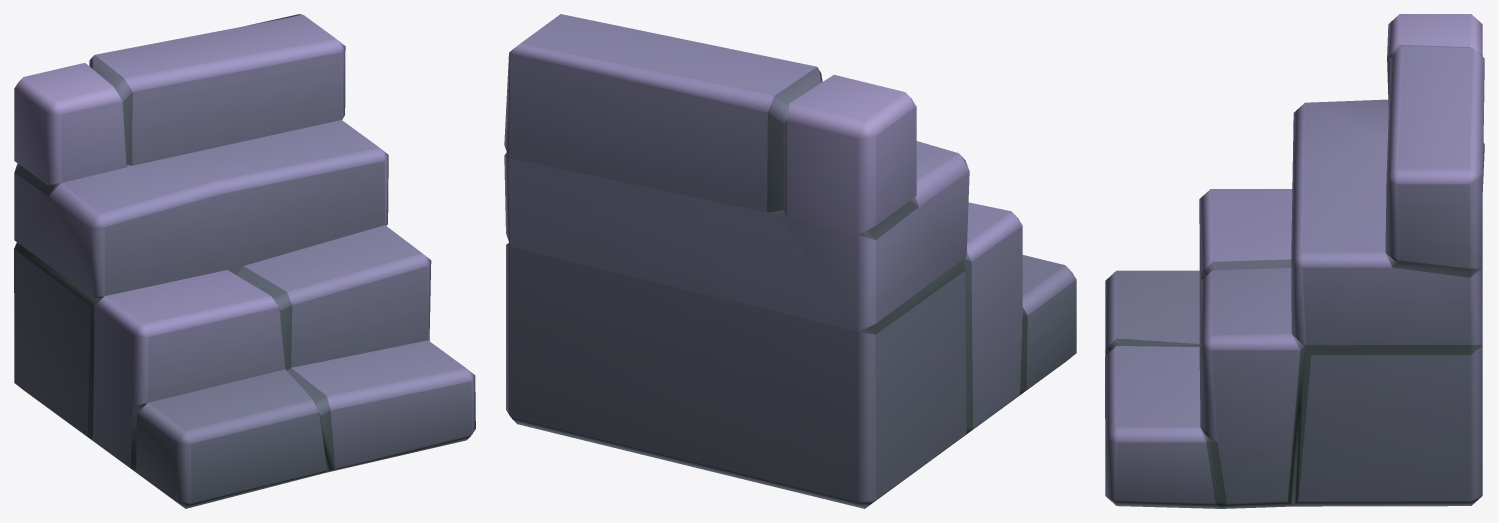
File: undead_stairs_shade_1.fbx
3 views of the same model, side by side, from view 1: azimuth 30°, elevation 25°; view 2: azimuth 150°, elevation 25°; view 3: azimuth 270°, elevation 25° (orthographic). The views are drawn at different scales.
Visible parts, largest first — view 1: undead_stairs_shade_1; view 2: undead_stairs_shade_1; view 3: undead_stairs_shade_1.
Part boxes in pixels (x1,y1,x2,y2): undead_stairs_shade_1: (14,14,475,508); undead_stairs_shade_1: (504,14,1076,508); undead_stairs_shade_1: (1105,14,1484,508).
Size of the model in its own units: 1.01 by 1.02 by 1.01.
